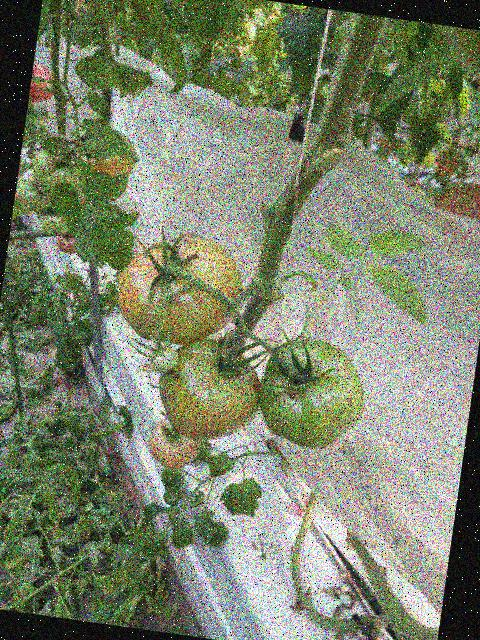b_fully_ripened: (28, 63, 58, 105)
b_green: (252, 333, 374, 456), (28, 146, 100, 205), (436, 26, 480, 93), (13, 168, 59, 215), (149, 345, 181, 376), (38, 212, 70, 238)
b_half_ripened: (111, 229, 249, 353), (152, 332, 267, 447), (146, 415, 204, 473), (86, 126, 140, 181), (54, 232, 78, 255)
